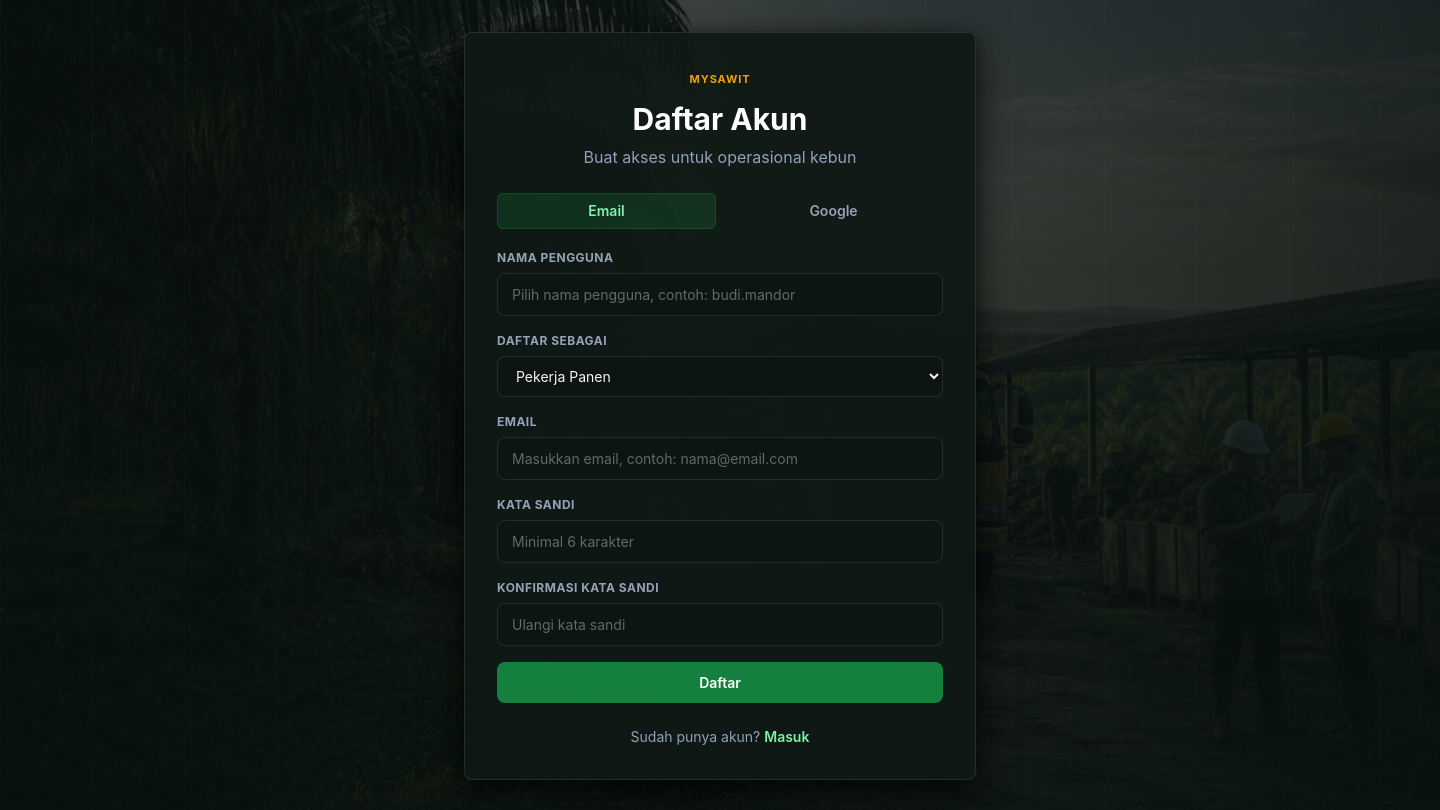
RegisterPage › shows password length validation error
Type "user" into the field with placeholder "Pilih nama pengguna, contoh: budi.mandor" at (720, 294), box [497, 273, 943, 316]
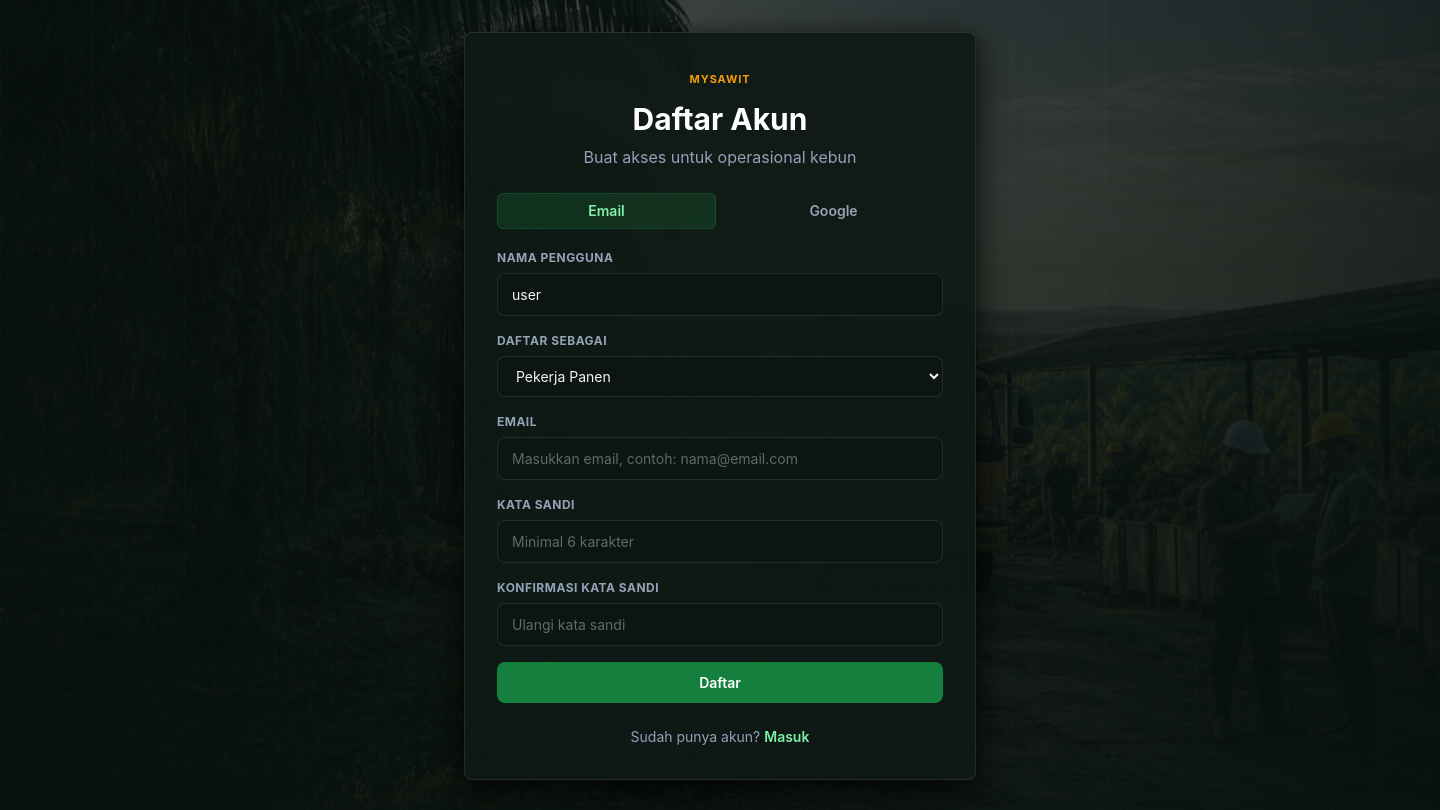
Type "user@mail.com" into the field with placeholder "Masukkan email, contoh: nama@email.com" at (720, 458), box [497, 437, 943, 480]
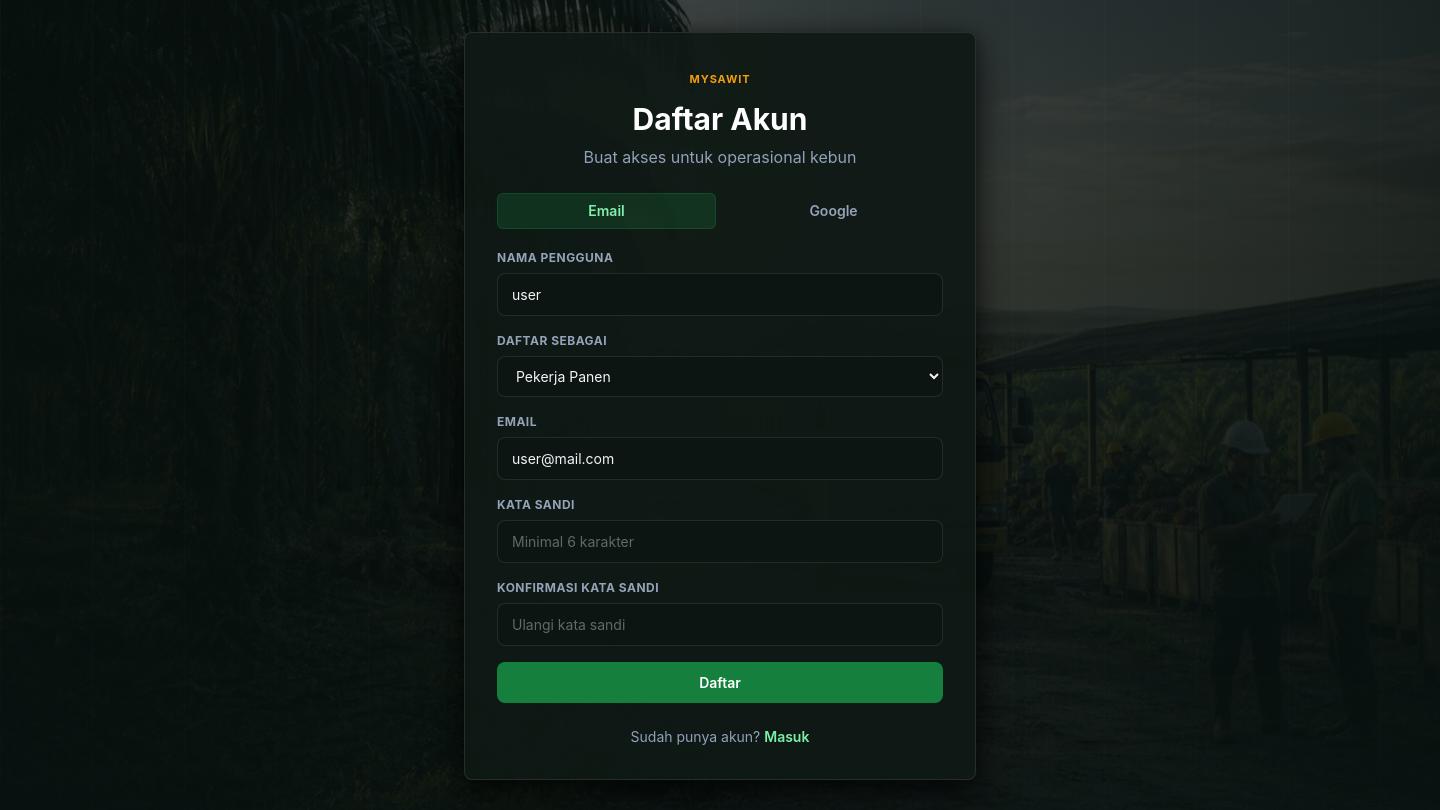
Type "short" into the password field with placeholder "Minimal 6 karakter" at (720, 542), box [497, 520, 943, 563]
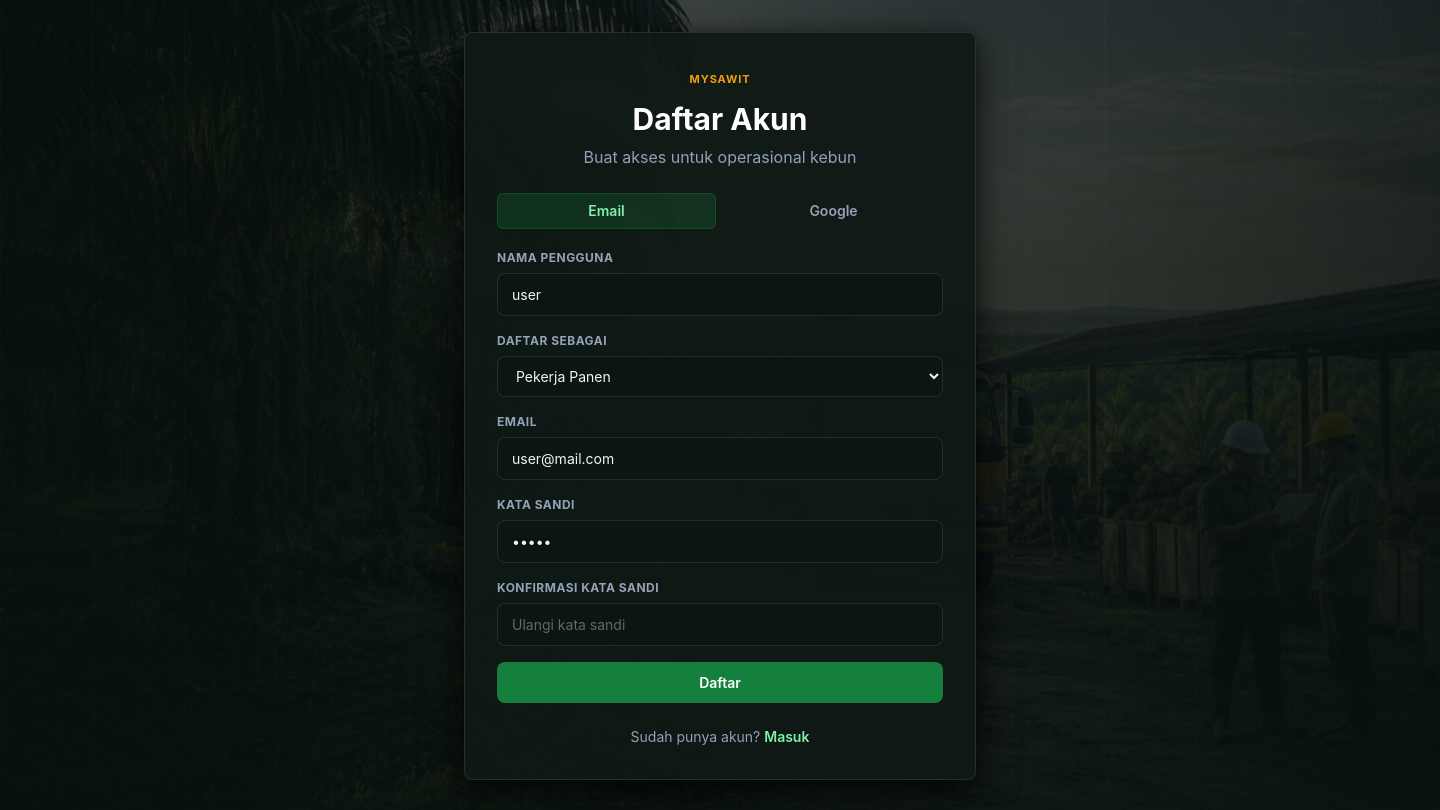
Type "short" into the password field with placeholder "Ulangi kata sandi" at (720, 624), box [497, 603, 943, 646]
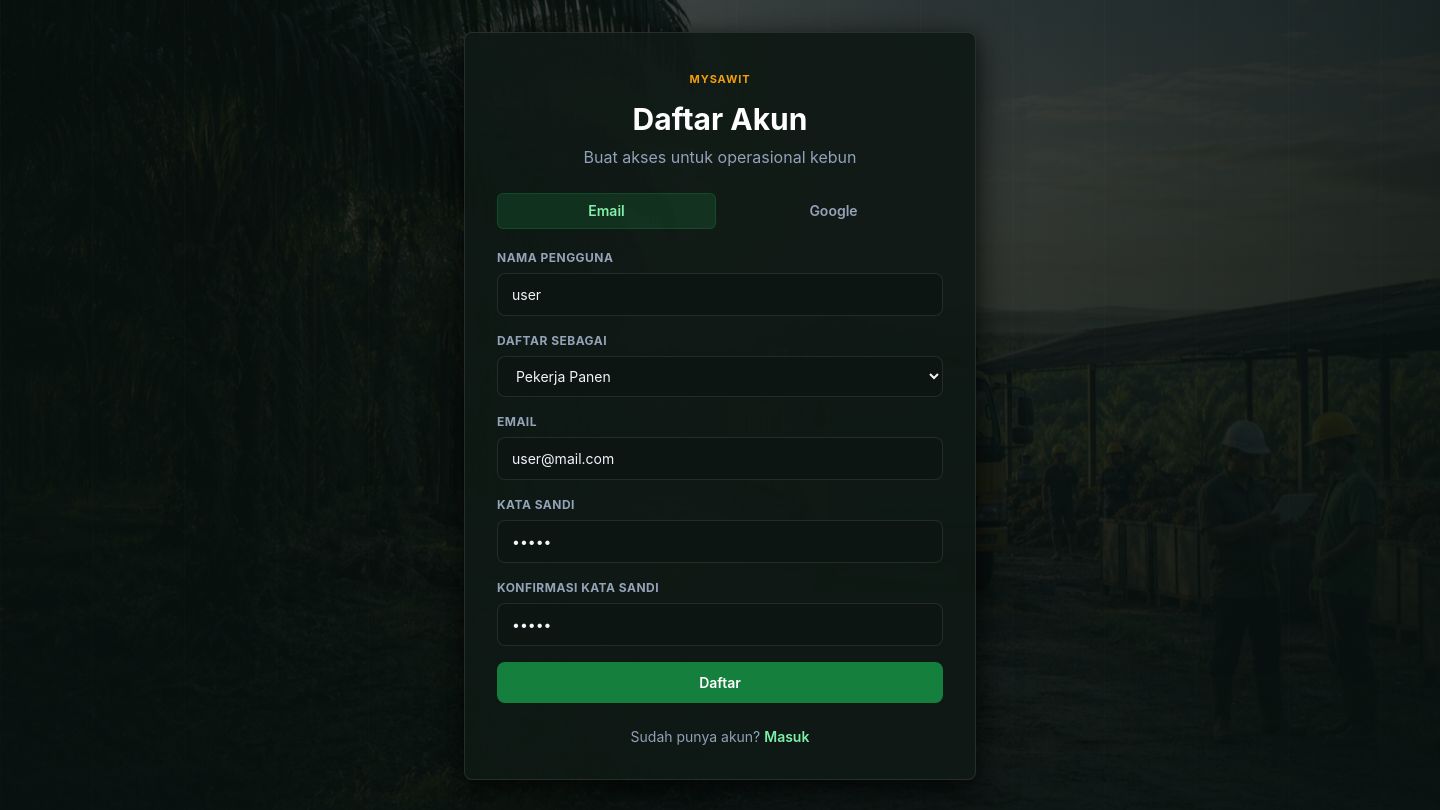
Click the button "Daftar" at (720, 682), box [497, 662, 943, 703]
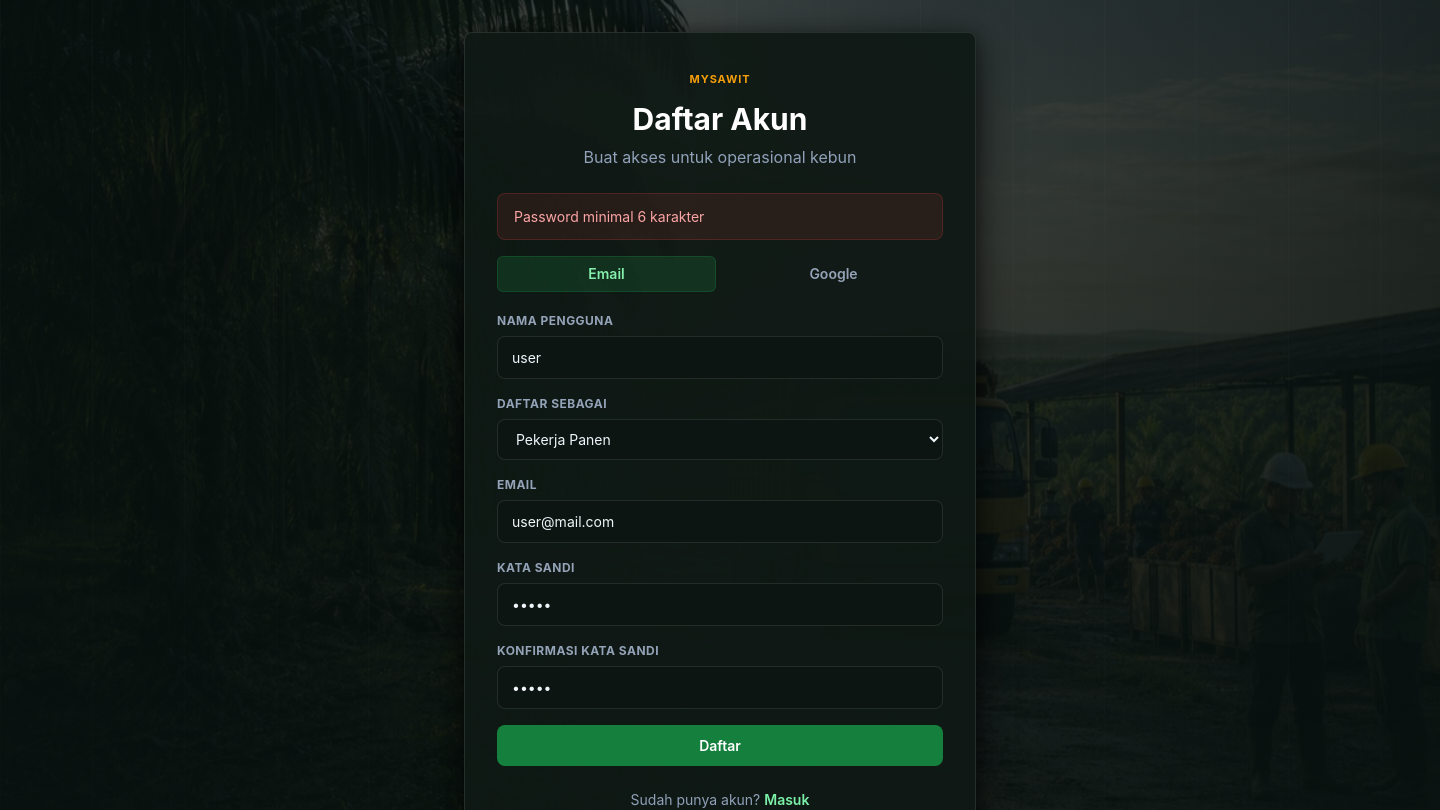
Expected: the text "Password minimal 6 karakter" is shown, [514, 206, 704, 227]
